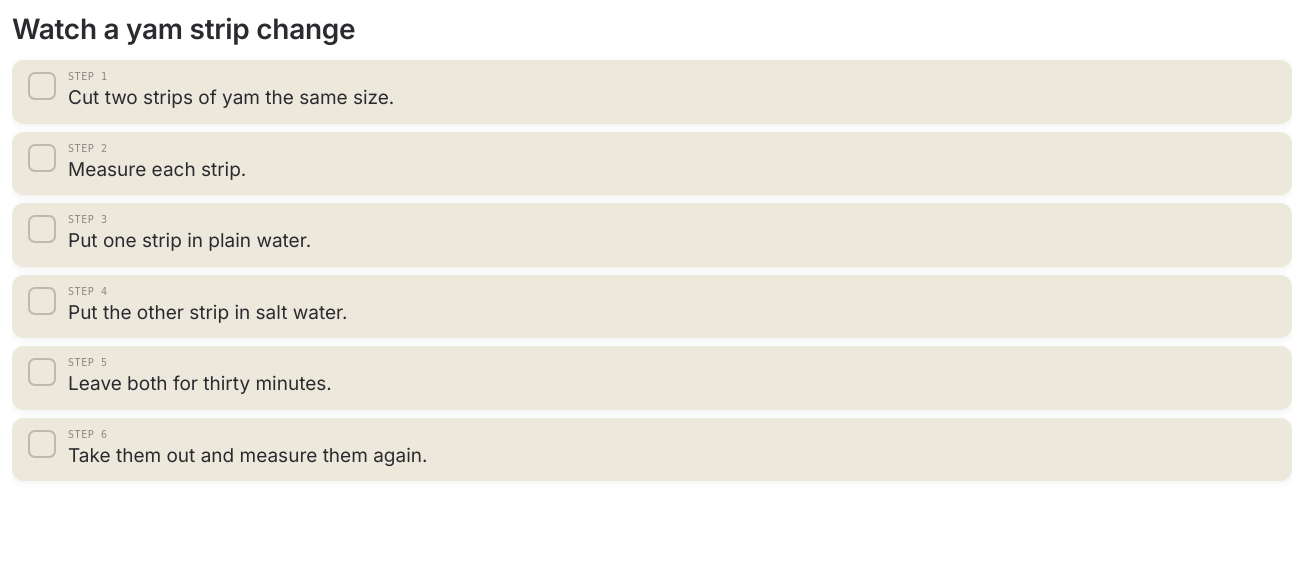
Test: an activity read from the wire with its outcome alone › shows no box until all six steps are ticked, then the outcome alone
The image size is (1304, 571).
Click the button "Step 1 Cut two strips of yam the same size." at (85, 76), box [12,60,1292,124]
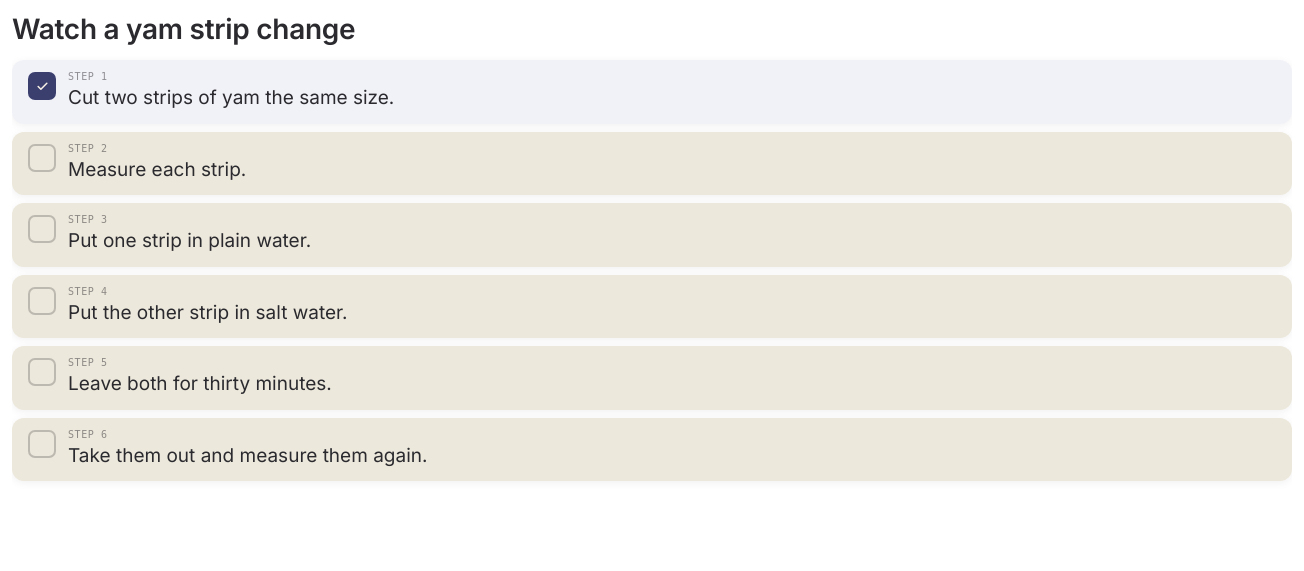
Click the button "Step 2 Measure each strip." at (85, 148), box [12,132,1292,195]
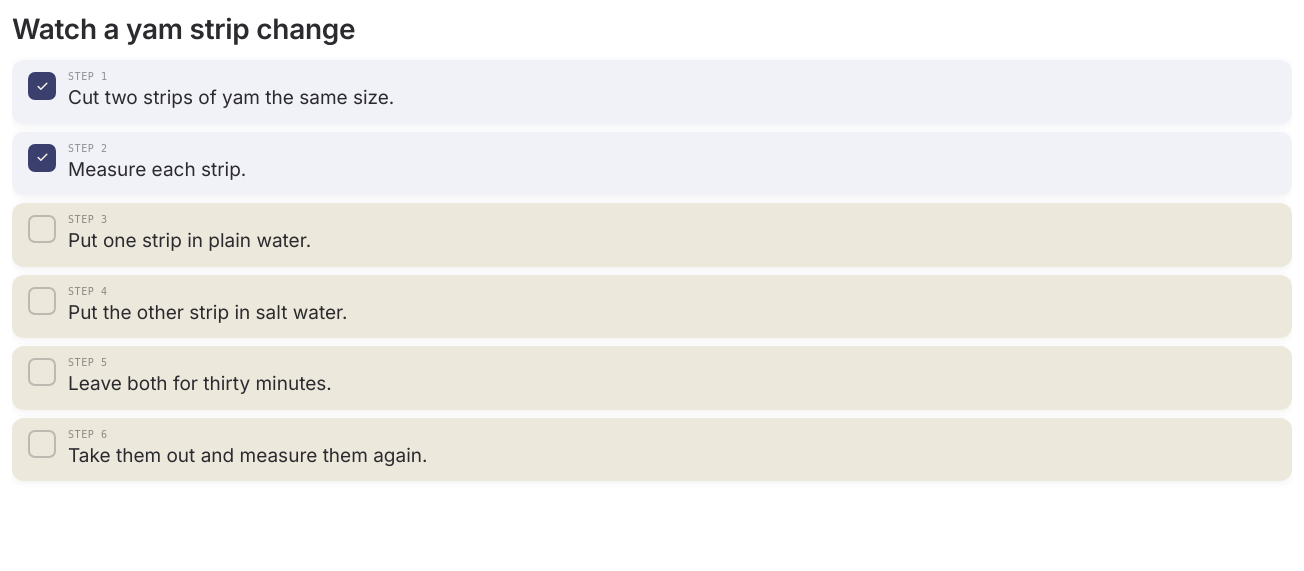
Click the button "Step 3 Put one strip in plain water." at (85, 220), box [12,203,1292,266]
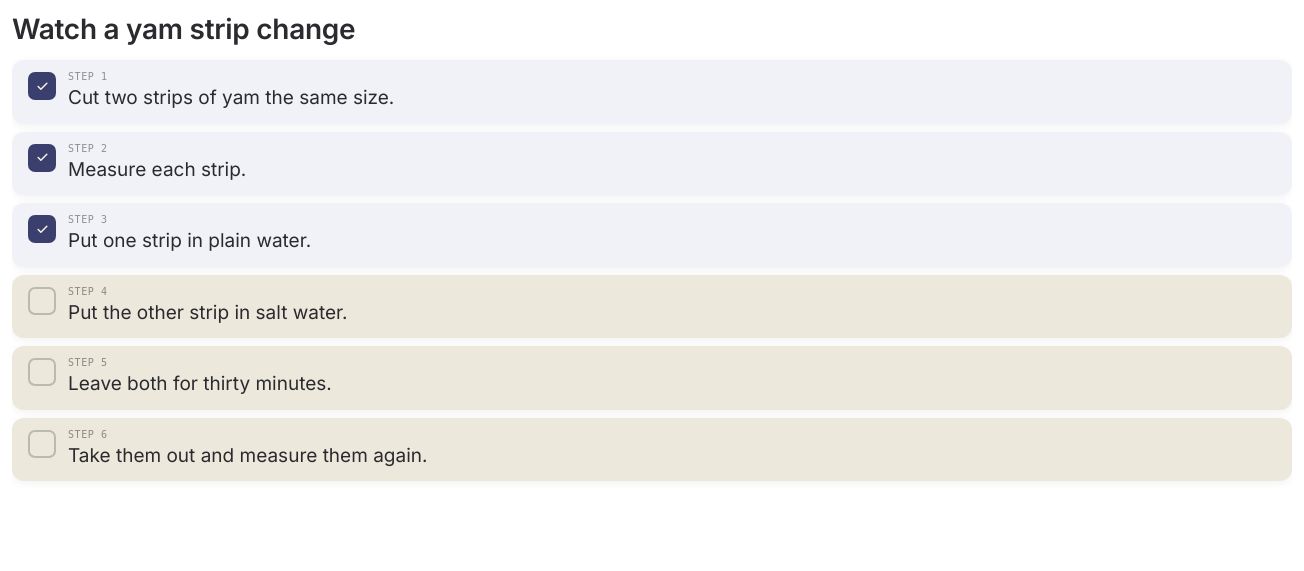
Click the button "Step 4 Put the other strip in salt water." at (85, 291), box [12,274,1292,338]
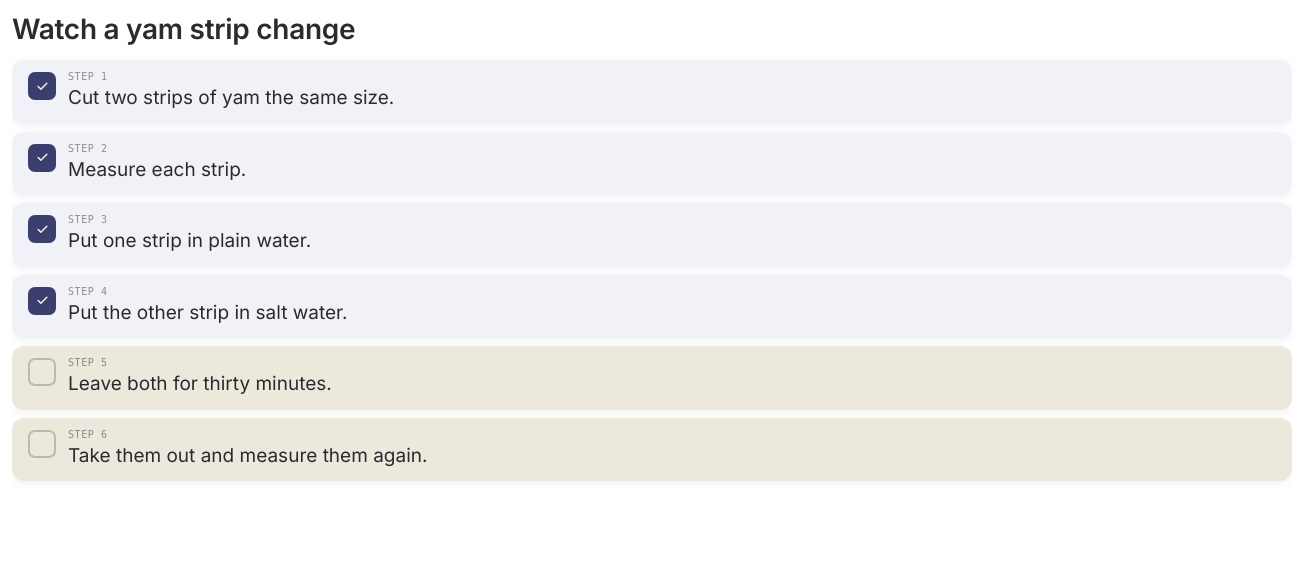
Click the button "Step 5 Leave both for thirty minutes." at (85, 362), box [12,346,1292,410]
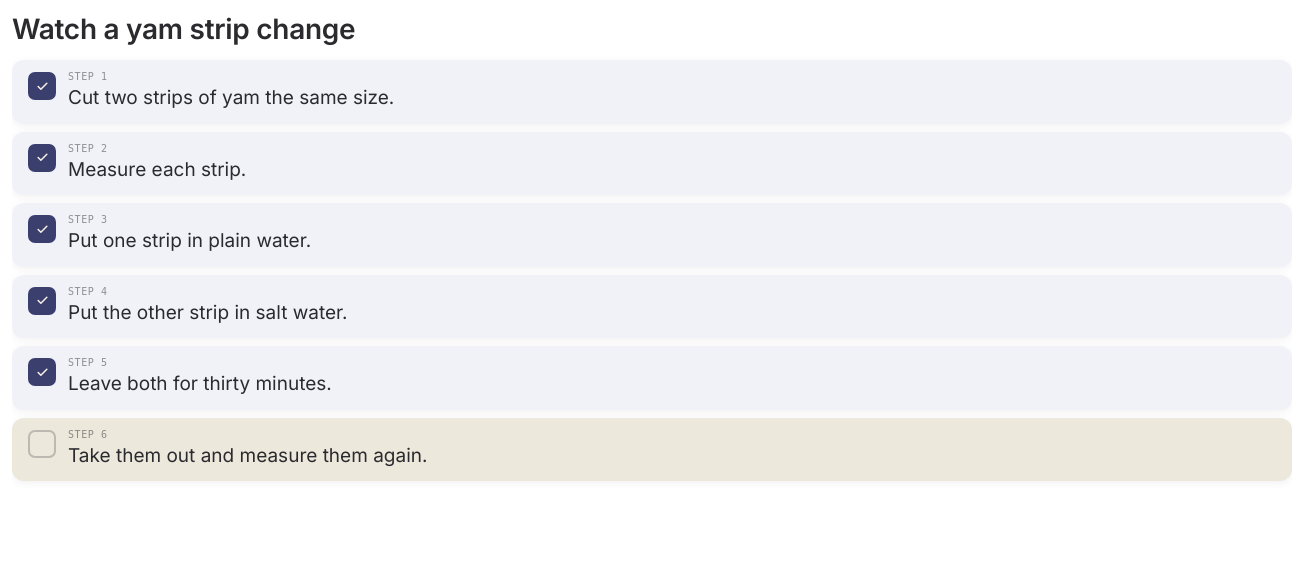
Click the button "Step 6 Take them out and measure them again." at (85, 434), box [12,418,1292,481]
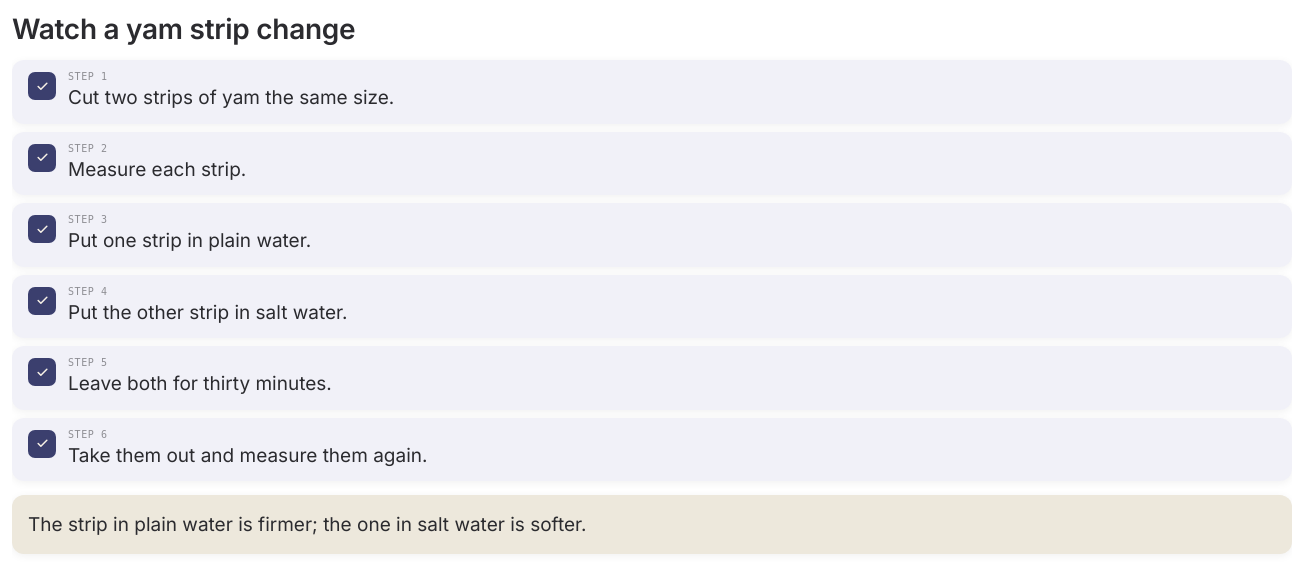
Check: the text "The strip in plain water is firmer; the one in salt water is softer." is shown, box [28,513,586,536]
